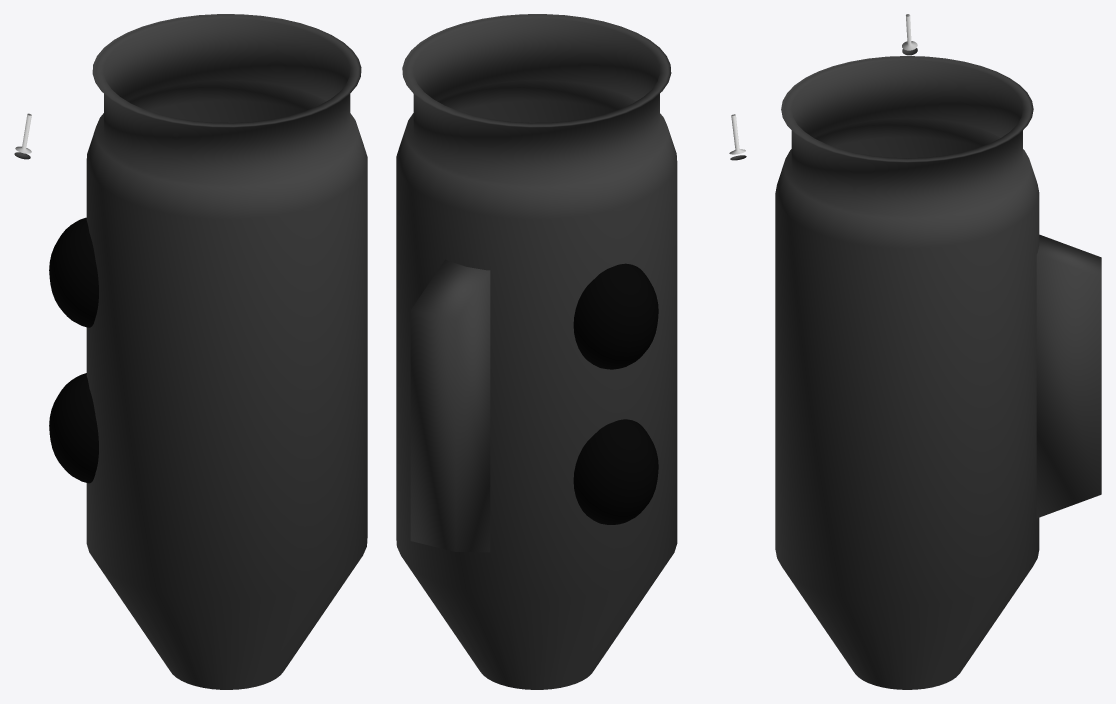
Rendered from apollo-soyuz-docking-module.glb.
3 views of the same model, side by side, from view 1: azimuth 30°, elevation 25°; view 2: azimuth 150°, elevation 25°; view 3: azimuth 270°, elevation 25° (orthographic). The views are drawn at different scales.
Visible parts, largest first — view 1: docking-module; view 2: docking-module; view 3: docking-module.
Part boxes in pixels (x1,y1,x2,y2): docking-module: (14, 14, 367, 689); docking-module: (396, 14, 746, 689); docking-module: (775, 14, 1101, 689).
Bounding box in the file's own units: 1.28 × 2.21 × 1.16.
1 material, 1 textured.
